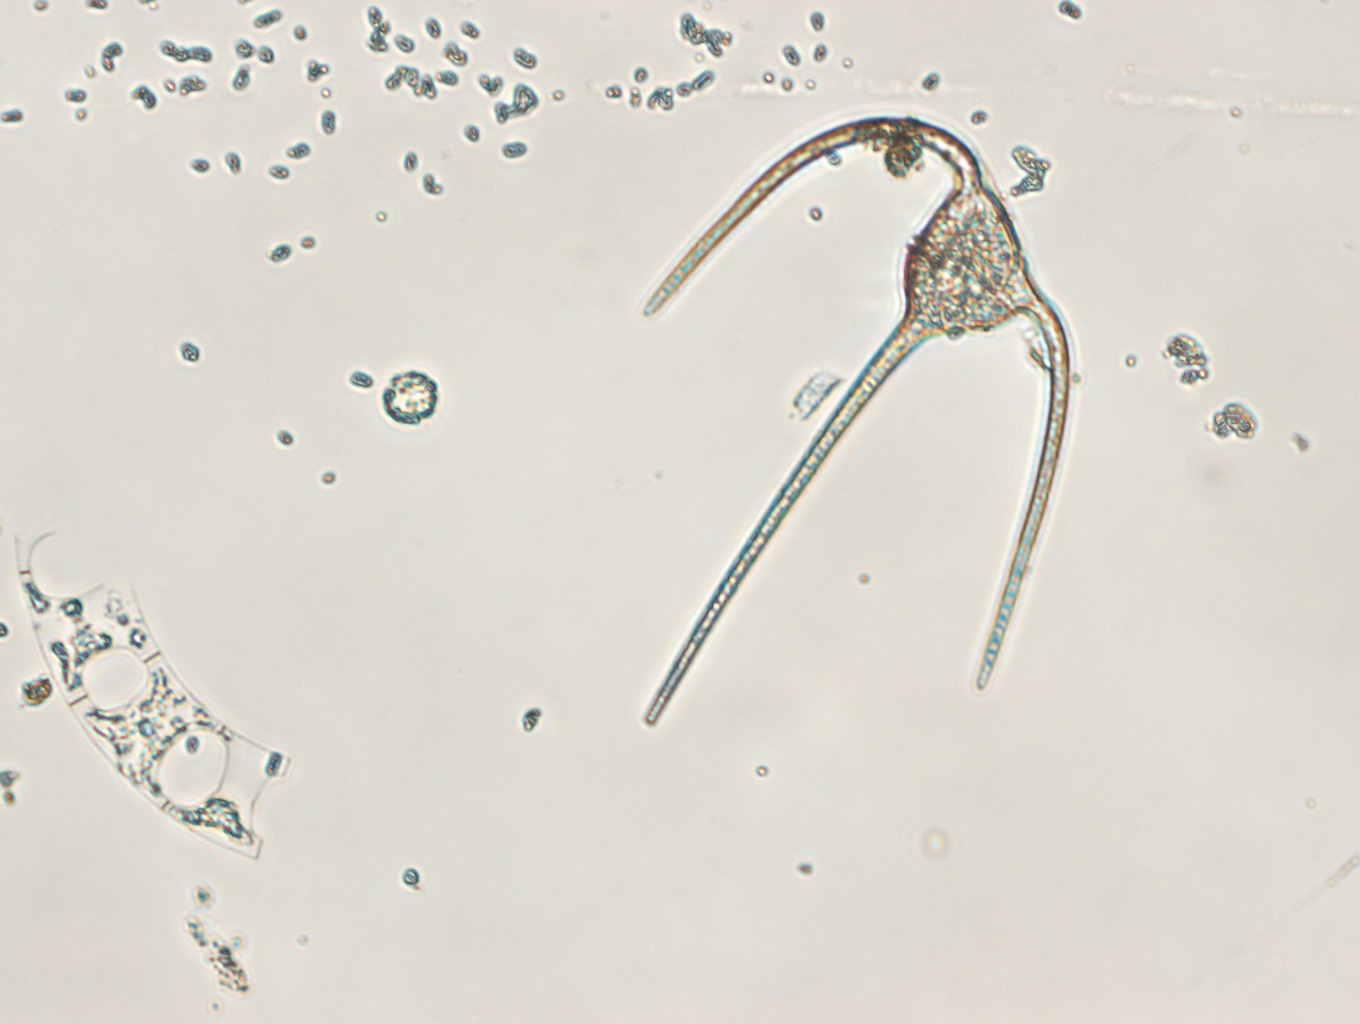ceratium furca: (638, 113, 1069, 740)
eucampia: (12, 534, 294, 863)
